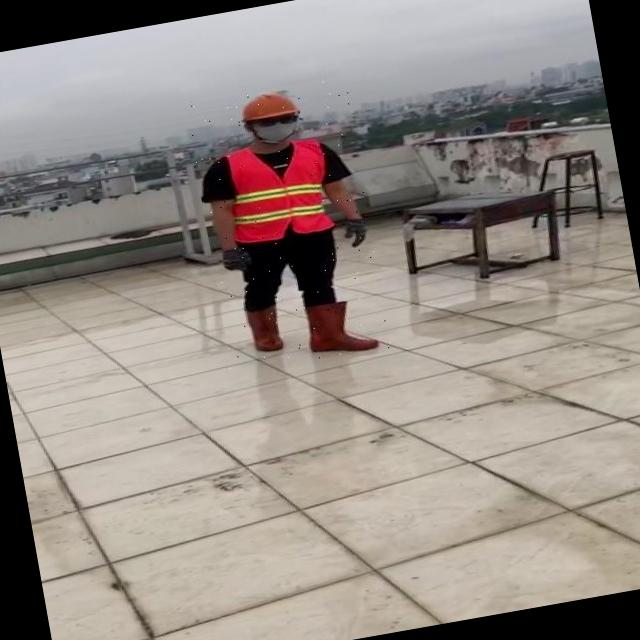boots: (299, 292, 382, 358), (242, 304, 284, 354)
gloves: (332, 200, 374, 262), (215, 233, 252, 280)
helmet: (230, 83, 304, 124)
vest: (224, 134, 340, 244)
